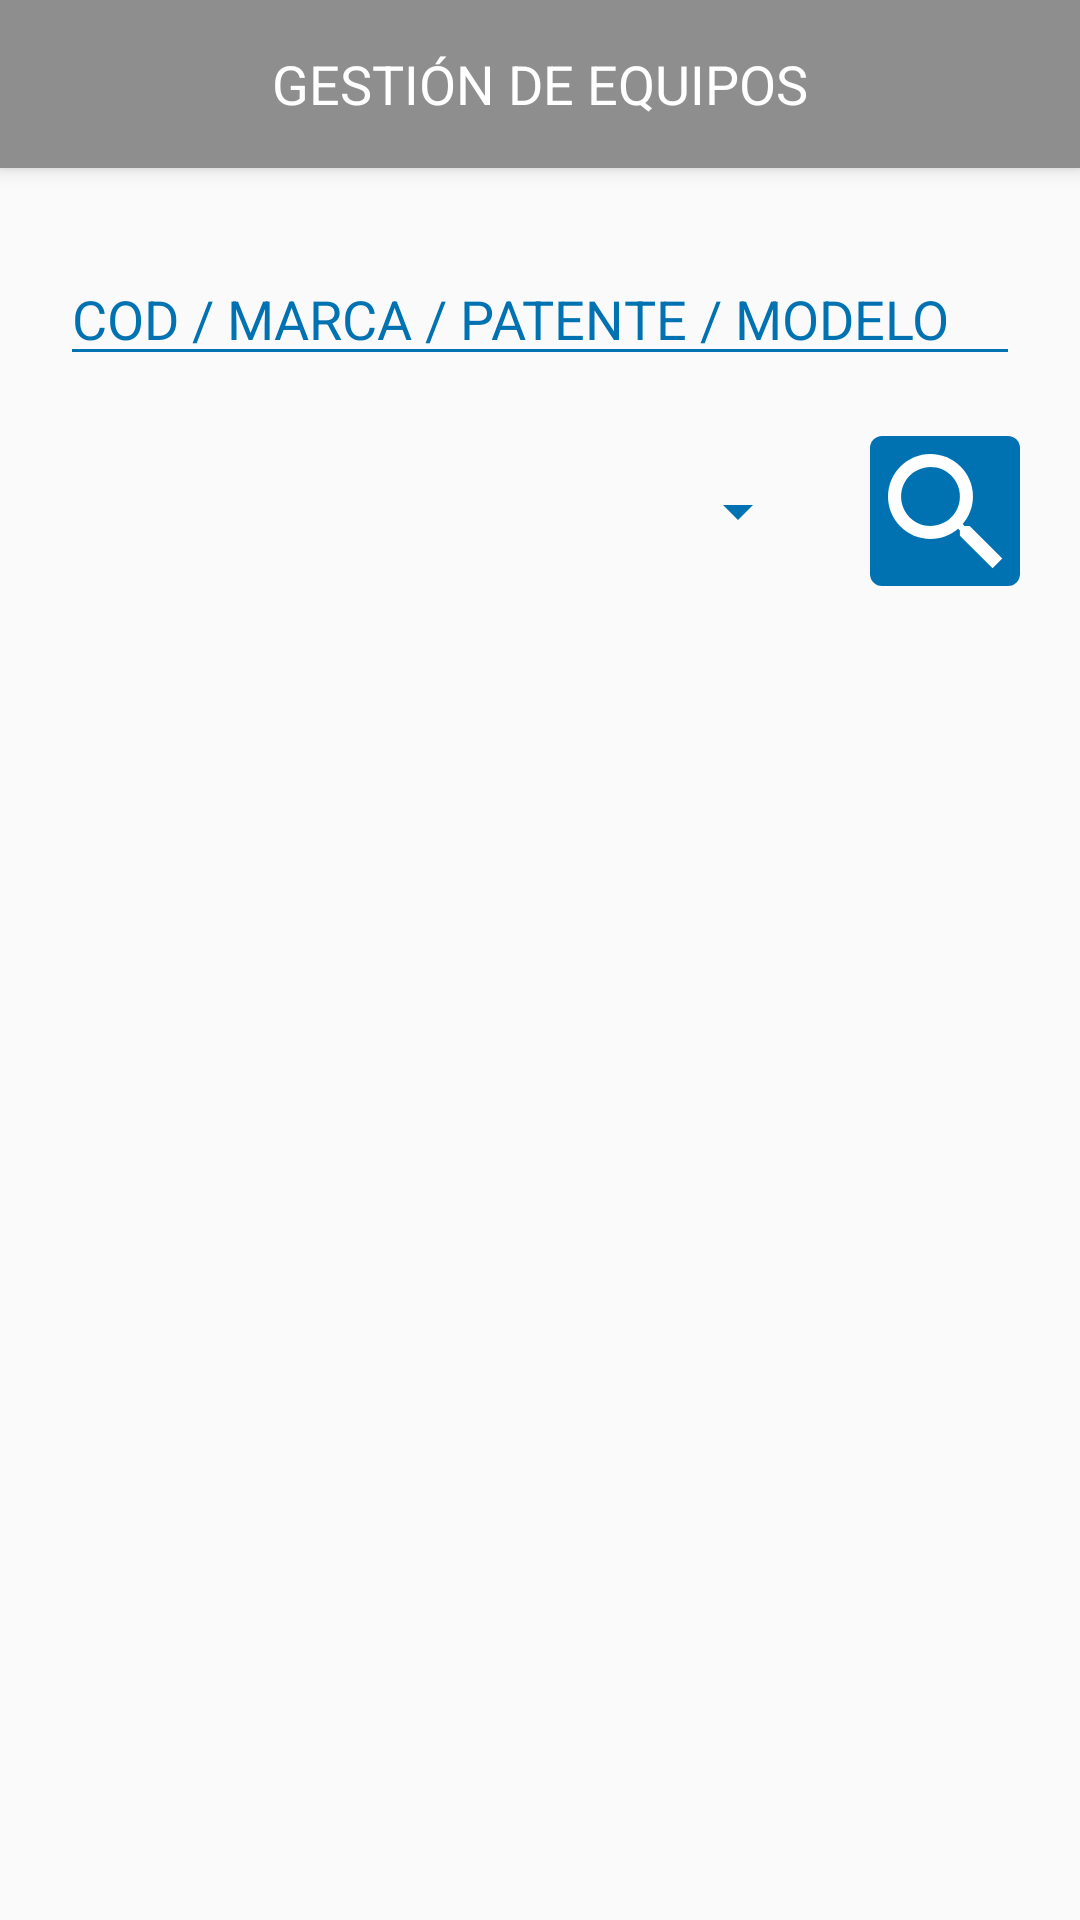

Screen size 1080px x 1920px. Icon name, then its box in pixels as (x1, y1, x2, y2):
busqueda: (870, 436, 1020, 586)
